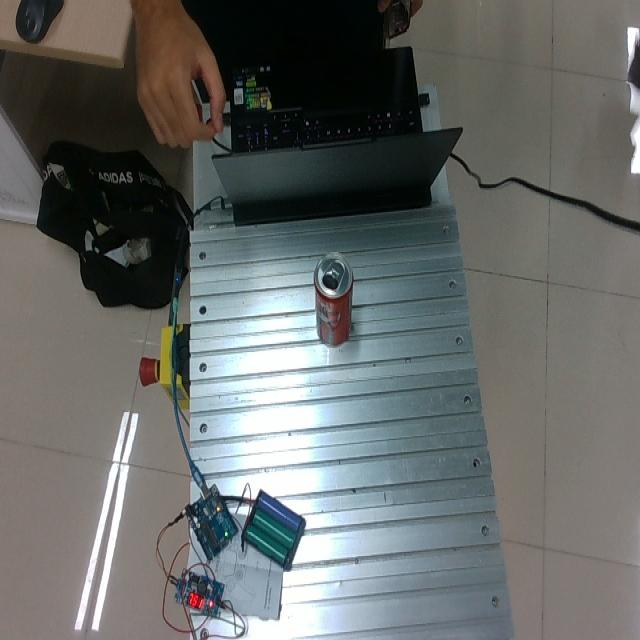coca: (313, 251, 353, 348)
